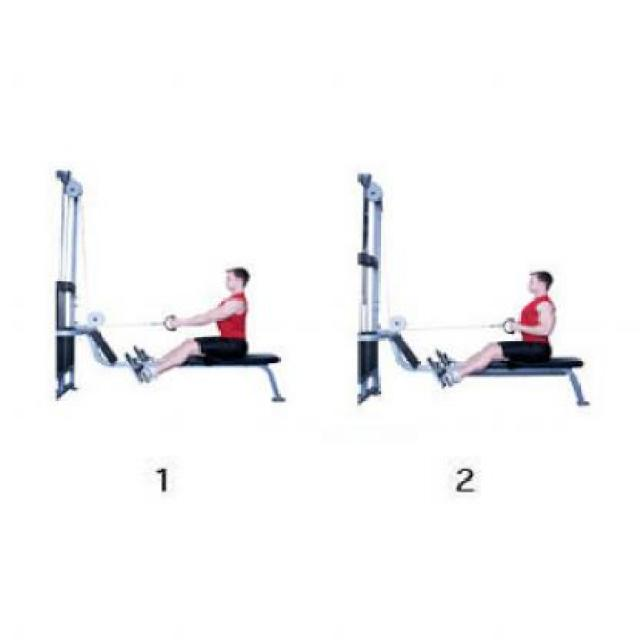Seated Cable Rows: (2, 123, 304, 517)
